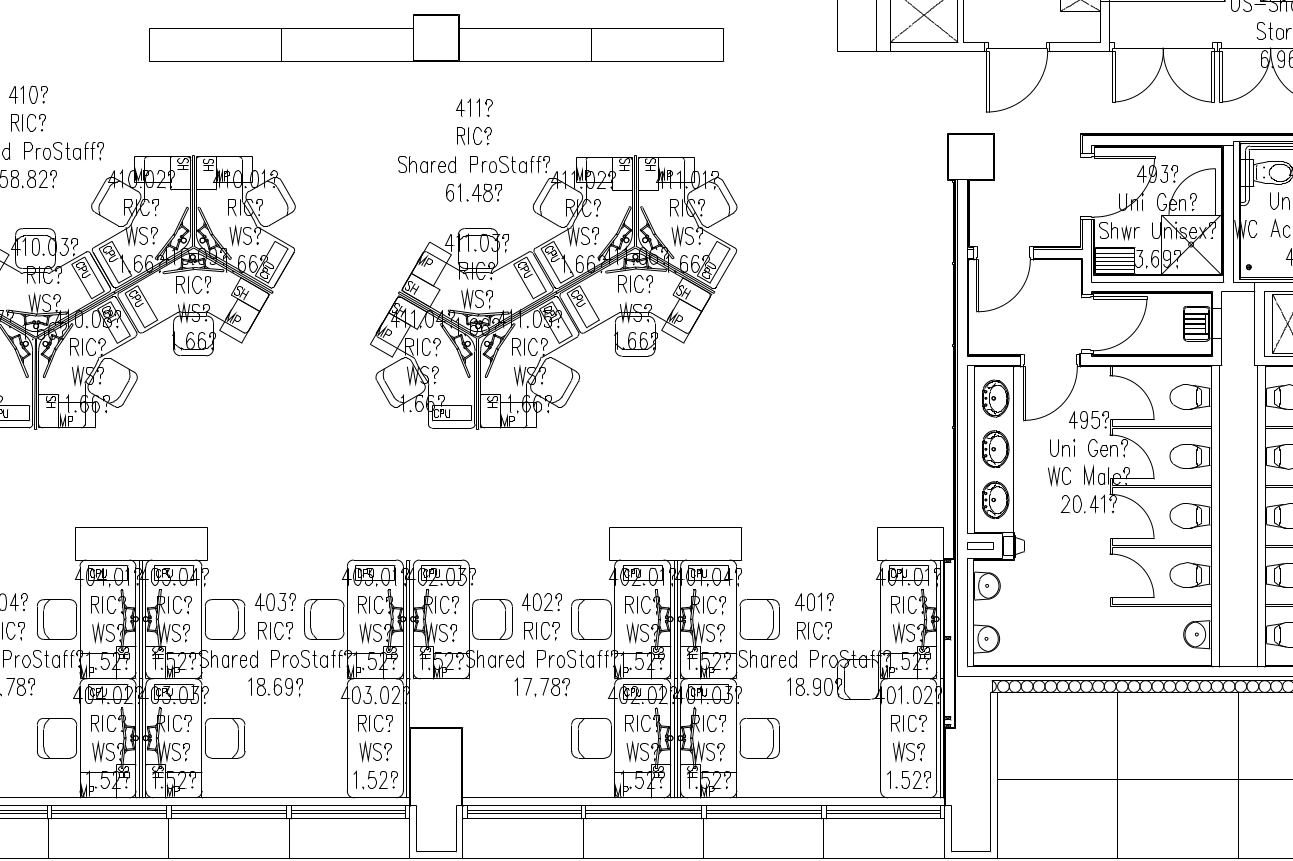door: (977, 52, 1054, 121), (1086, 46, 1163, 115), (1096, 152, 1157, 223), (973, 254, 1034, 325), (1021, 361, 1082, 432), (1161, 44, 1217, 113), (1090, 294, 1153, 354), (1219, 41, 1270, 113), (1107, 372, 1160, 423), (1106, 429, 1159, 480), (1103, 492, 1156, 543), (1107, 552, 1160, 603), (1169, 164, 1217, 216)
